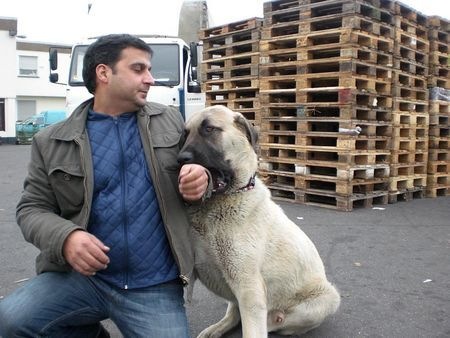human_face: (82, 33, 154, 110)
kangal: (177, 104, 340, 338)
person: (0, 35, 208, 336)
